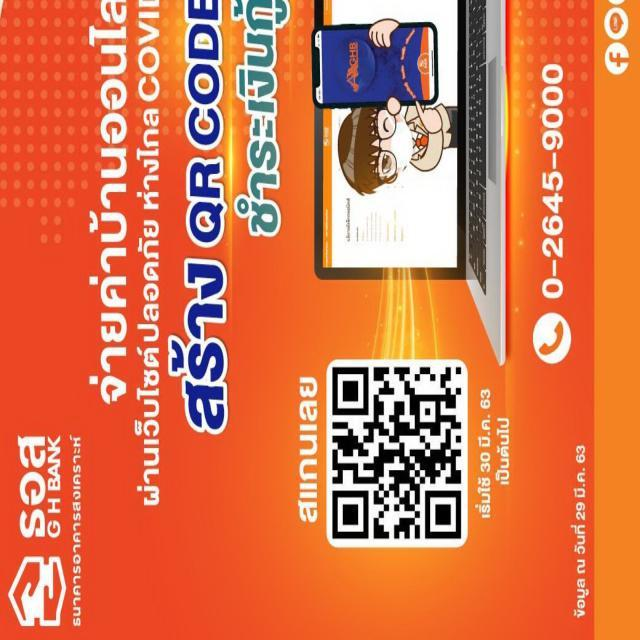qr_code: (332, 367, 462, 540)
